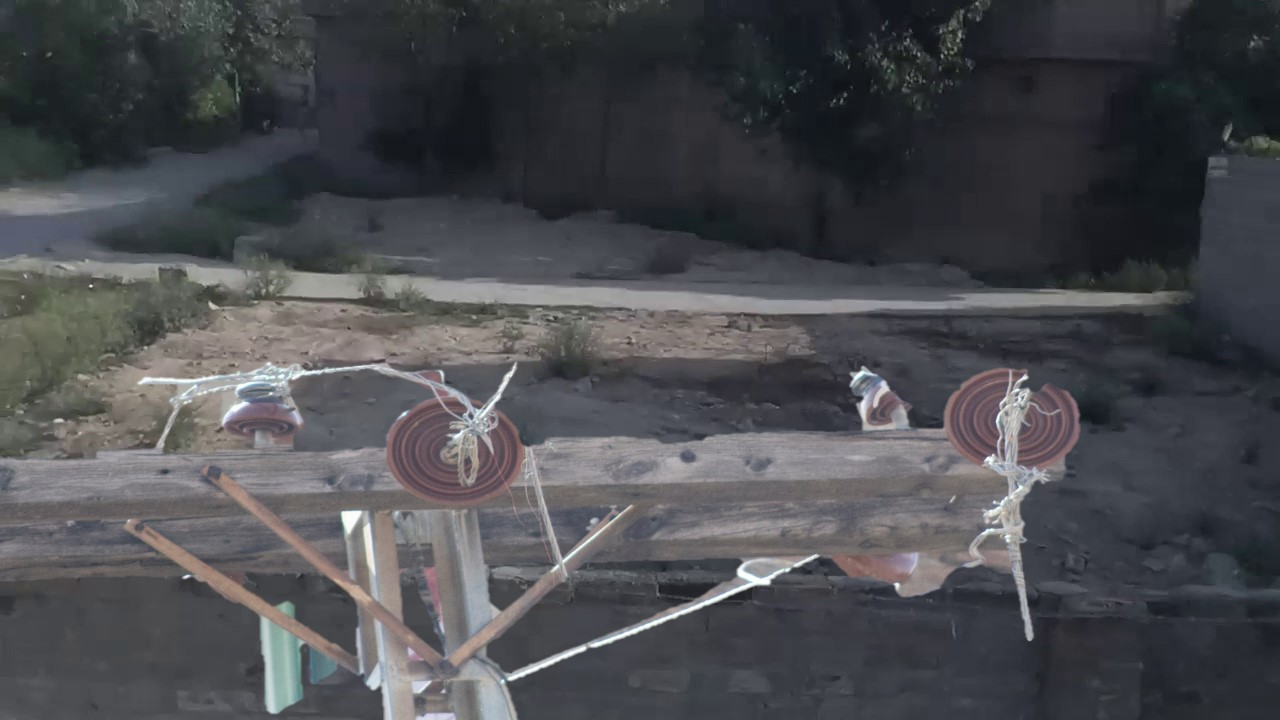defect_pin: (840, 362, 915, 438)
insulator_disc: (944, 364, 1083, 477), (381, 395, 520, 508)
insulator_pin: (221, 375, 303, 441)
